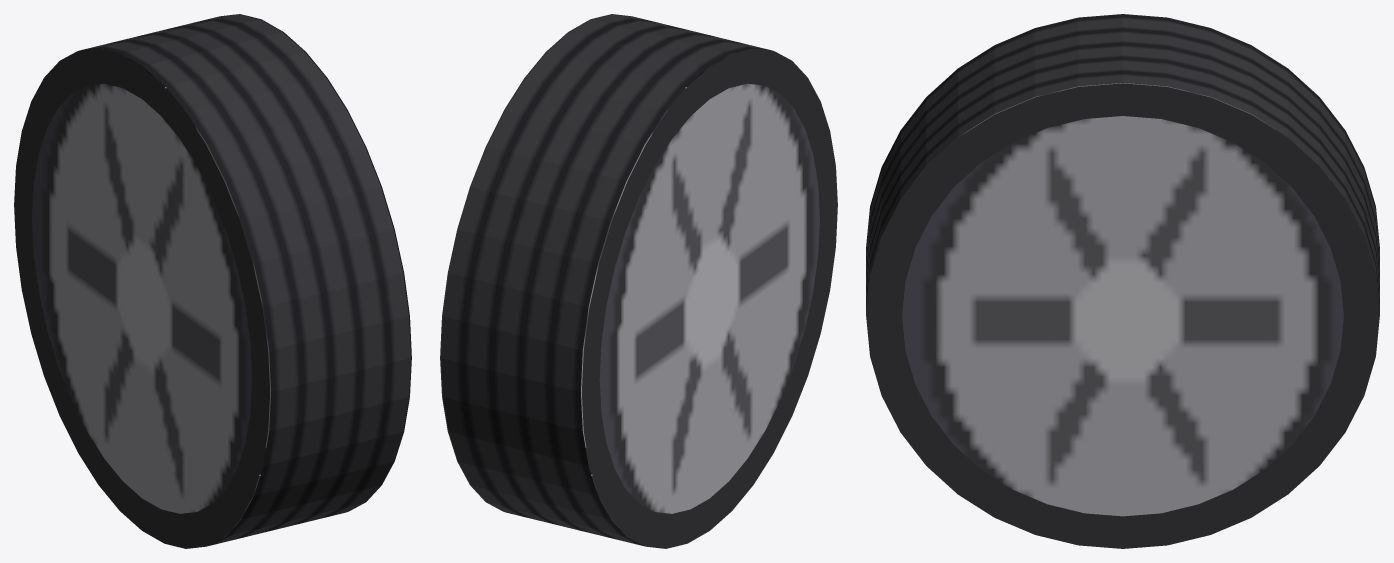
Rendered from wheel_front.obj.
3 views of the same model, side by side, from view 1: azimuth 30°, elevation 25°; view 2: azimuth 150°, elevation 25°; view 3: azimuth 270°, elevation 25° (orthographic).
Parts seen in each view (by area): view 1: wheel_front; view 2: wheel_front; view 3: wheel_front.
Part boxes in pixels (left/top/right/bottom): wheel_front: left=14, top=14, right=411, bottom=548; wheel_front: left=440, top=14, right=837, bottom=548; wheel_front: left=866, top=14, right=1379, bottom=548.
Bounding box in the file's own units: 2.94 × 9.2 × 9.2.
Materials: 1 (1 with a texture image).
